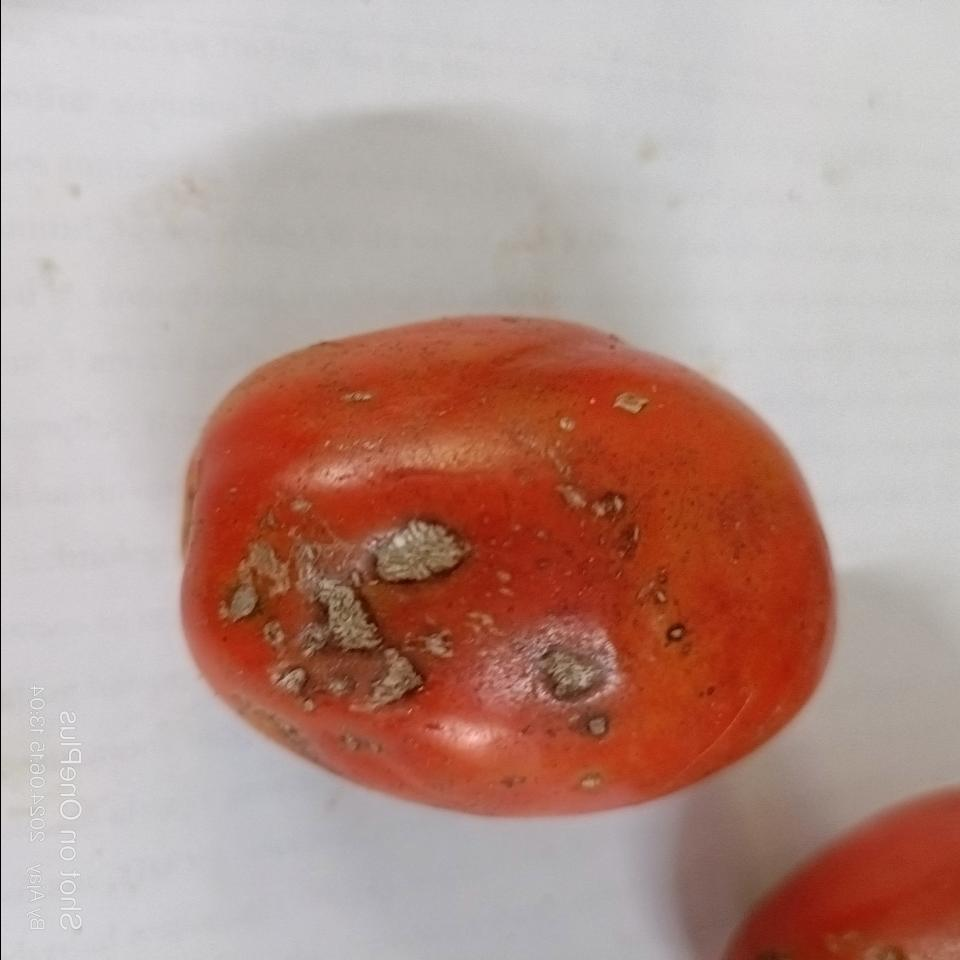Bacterial_Spot: (518, 631, 620, 706), (374, 514, 466, 585), (367, 644, 429, 708), (314, 572, 362, 650), (218, 577, 266, 627), (277, 664, 323, 710), (564, 488, 620, 518), (614, 394, 646, 411), (584, 719, 608, 737), (554, 417, 577, 434), (670, 623, 684, 643), (582, 775, 599, 790)
